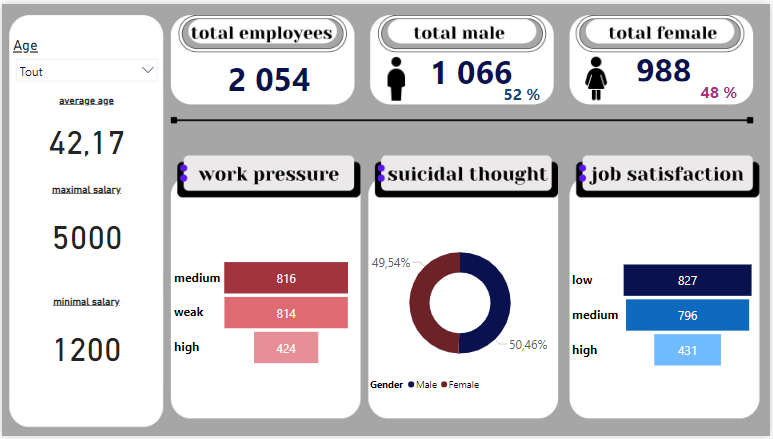

Layout of this report page (visuals, bound fields, positions):
{"tool":"powerbi","page":{"name":"general","canvas":[1280,720],"ordinal":0},"visuals":[{"type":"card","title":"total employees","fields":{"Values":["All Measures.total emp"]},"box":[331.4,82.9,227.1,78.6],"z":0},{"type":"card","title":"total male","fields":{"Values":["All Measures.male"]},"box":[687.1,60,190,101.4],"z":1000},{"type":"card","title":"total female","fields":{"Values":["All Measures.female"]},"box":[972.9,80,258.6,54.3],"z":2000},{"type":"card","title":"total female","fields":{"Values":["All Measures.%female"]},"box":[1158.6,121.4,72.9,50],"z":3000},{"type":"image","box":[945.7,47.1,88.6,155.7],"z":4000},{"type":"image","box":[587.1,80,141.4,91.4],"z":5000},{"type":"card","title":"total female","fields":{"Values":["All Measures.%male"]},"box":[830,125.7,72.9,50],"z":6000},{"type":"slicer","title":"Age","fields":{"Values":["Depression Professional Dataset.Age"]},"box":[12.9,55.7,255.7,78.6],"z":7000},{"type":"funnel","fields":{"Category":["work_pressure.Personnalisé"],"Y":["Sum(work_pressure.Nombre)"]},"box":[281.7,373.3,305,281.7],"z":8000},{"type":"donutChart","fields":{"Category":["suicidal thought.Gender"],"Y":["Sum(suicidal thought.Nombre)"]},"box":[608.6,372.9,310,281.4],"z":9000},{"type":"funnel","fields":{"Category":["job_satisfaction.results"],"Y":["Sum(job_satisfaction.Nombre)"]},"box":[945.7,372.9,314.3,290],"z":10000},{"type":"card","title":"average age ","fields":{"Values":["All Measures.Average Age"]},"box":[13.3,150,255,128.3],"z":11000},{"type":"card","title":"maximal salary","fields":{"Values":["All Measures.maxSalary"]},"box":[13.3,298.3,255,150],"z":11001},{"type":"card","title":"minimal salary","fields":{"Values":["All Measures.minSalary"]},"box":[13.3,485,255,150],"z":11002}]}

Visuals, with their boxes in screenshot pixels (x1, y1, x2, y2), scaled from the page's 1280x720 canvas onto the 773x439 screenshot:
"total employees" card: <region>200, 51, 337, 98</region>
"total male" card: <region>415, 37, 530, 98</region>
"total female" card: <region>588, 49, 744, 82</region>
"total female" card: <region>700, 74, 744, 105</region>
image: <region>571, 29, 625, 124</region>
image: <region>355, 49, 440, 105</region>
"total female" card: <region>501, 77, 545, 107</region>
"Age" slicer: <region>8, 34, 162, 82</region>
funnel - work_pressure.Personnalisé x Sum(work_pressure.Nombre): <region>170, 228, 354, 399</region>
donutChart - suicidal thought.Gender x Sum(suicidal thought.Nombre): <region>368, 227, 555, 399</region>
funnel - job_satisfaction.results x Sum(job_satisfaction.Nombre): <region>571, 227, 761, 404</region>
"average age " card: <region>8, 91, 162, 170</region>
"maximal salary" card: <region>8, 182, 162, 273</region>
"minimal salary" card: <region>8, 296, 162, 387</region>
